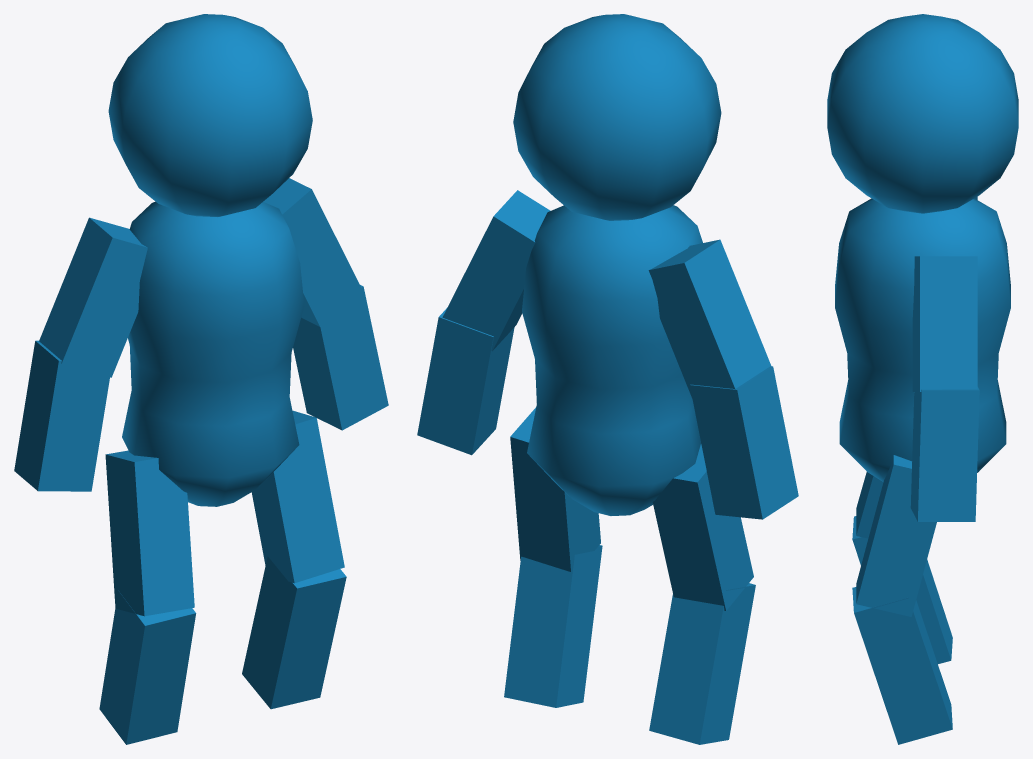
File: PlayerBase.fbx
3 views of the same model, side by side, from view 1: azimuth 30°, elevation 25°; view 2: azimuth 150°, elevation 25°; view 3: azimuth 270°, elevation 25° (orthographic). The views are drawn at different scales.
Visible parts, largest first — view 1: Chest, Head, R_Thigh, R_Shoulder, L_Shin, R_Forearm, R_Shin, L_Thigh, L_Forearm, L_Shoulder; view 2: Chest, Head, R_Shoulder, L_Shin, R_Shin, R_Forearm, R_Thigh, L_Forearm, L_Shoulder, L_Thigh; view 3: Head, Chest, L_Shoulder, L_Forearm, L_Shin, L_Thigh, R_Shin, R_Thigh.
Part boxes in pixels (left/top/right/bottom): Chest: left=122, top=201, right=304, bottom=506; Head: left=108, top=14, right=312, bottom=216; R_Thigh: left=105, top=450, right=194, bottom=616; R_Shoulder: left=39, top=217, right=147, bottom=377; L_Shin: left=242, top=556, right=346, bottom=709; R_Forearm: left=14, top=340, right=109, bottom=491; R_Shin: left=99, top=590, right=196, bottom=744; L_Thigh: left=251, top=410, right=344, bottom=583; L_Forearm: left=293, top=285, right=388, bottom=430; L_Shoulder: left=263, top=178, right=362, bottom=326; Chest: left=522, top=205, right=702, bottom=515; Head: left=513, top=14, right=721, bottom=220; R_Shoulder: left=648, top=239, right=771, bottom=397; L_Shin: left=504, top=545, right=602, bottom=707; R_Shin: left=649, top=583, right=755, bottom=744; R_Forearm: left=689, top=366, right=798, bottom=519; R_Thigh: left=652, top=444, right=753, bottom=610; L_Forearm: left=417, top=307, right=514, bottom=455; L_Shoulder: left=442, top=190, right=550, bottom=351; L_Thigh: left=510, top=407, right=600, bottom=571; Head: left=827, top=14, right=1018, bottom=213; Chest: left=835, top=198, right=1010, bottom=481; L_Shoulder: left=912, top=256, right=977, bottom=392; L_Forearm: left=910, top=387, right=979, bottom=521; L_Shin: left=852, top=587, right=952, bottom=744; L_Thigh: left=856, top=455, right=936, bottom=616; R_Shin: left=852, top=516, right=952, bottom=663; R_Thigh: left=856, top=472, right=883, bottom=538.
Size of the model in its own units: 0.9398 by 1.76 by 0.4532.
